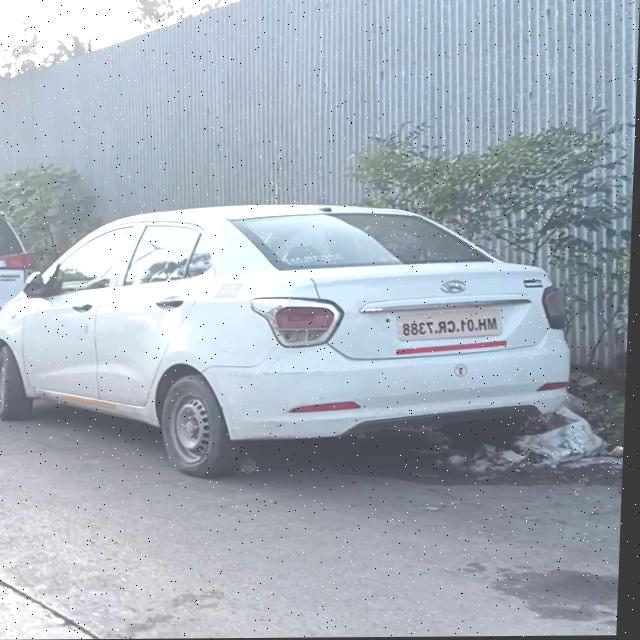plate: (398, 309, 510, 343)
